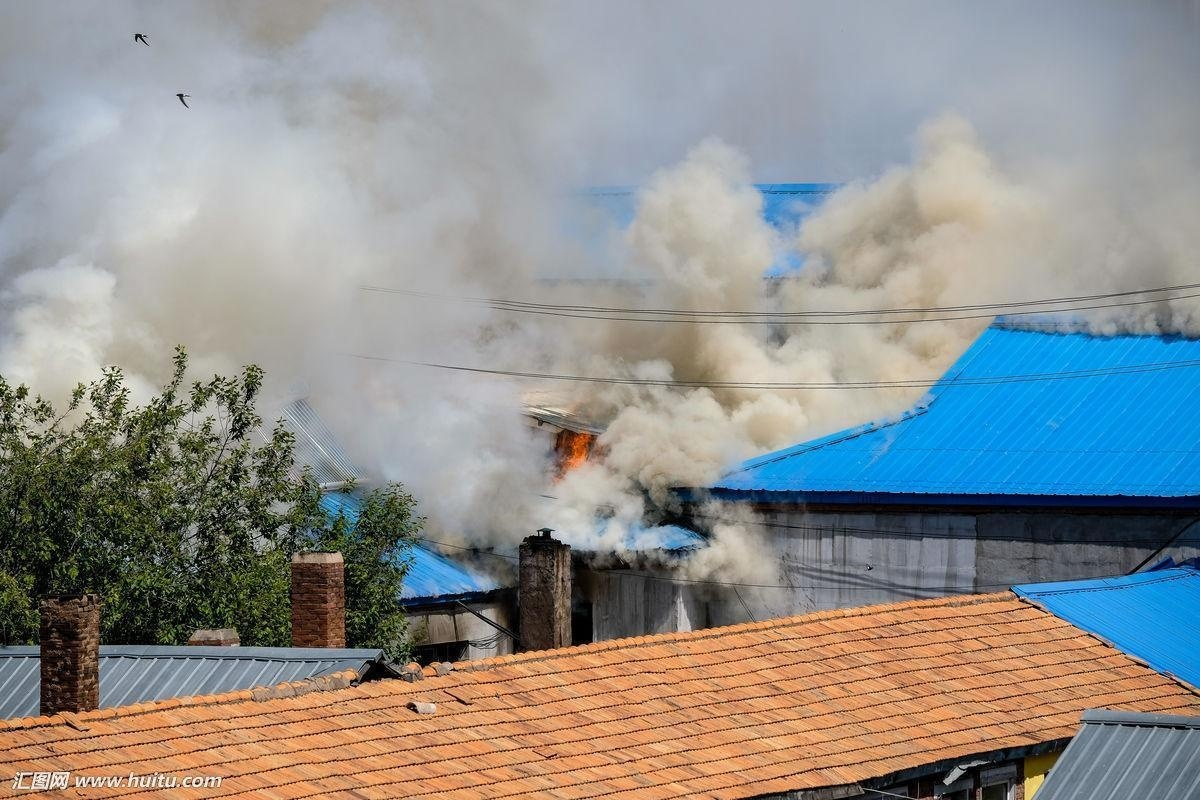fire: (544, 420, 596, 478)
